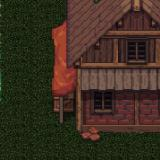Obstacle: (26, 0, 160, 160)
